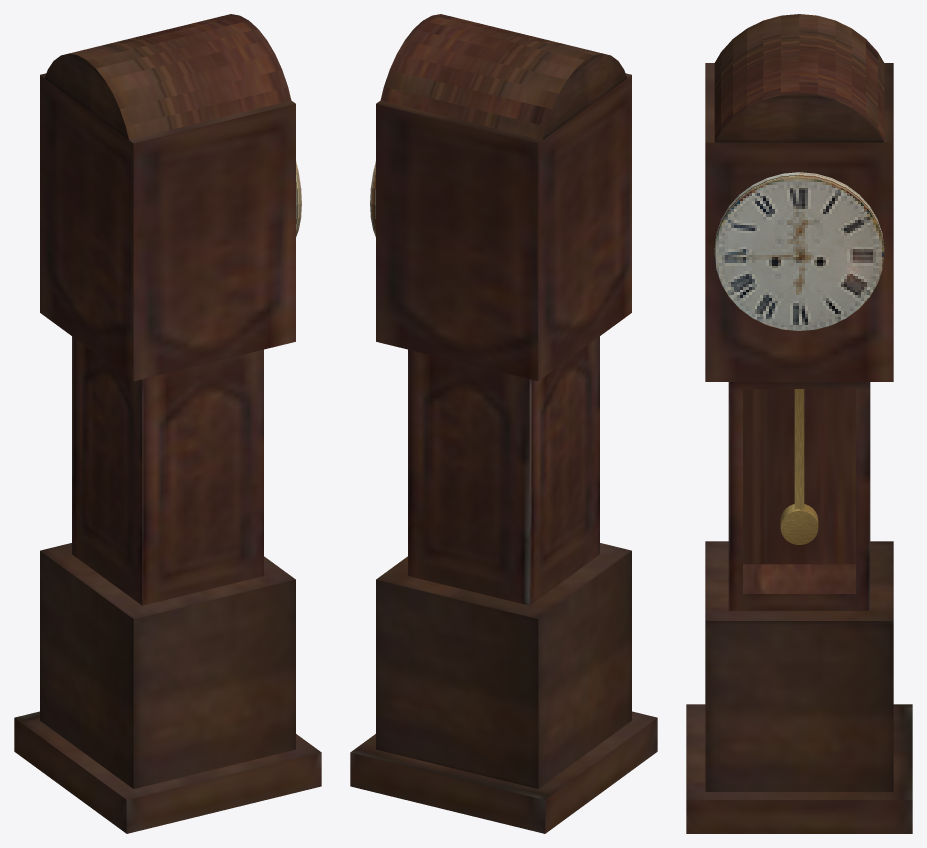
The model's file is clock.glb.
3 views of the same model, side by side, from view 1: azimuth 30°, elevation 25°; view 2: azimuth 150°, elevation 25°; view 3: azimuth 270°, elevation 25° (orthographic).
Parts seen in each view (by area): view 1: Cube.003, Cube.002, Cube.001, Cylinder, Cube; view 2: Cube.003, Cube.002, Cube.001, Cylinder, Cube; view 3: Cube.002, Cube.001, Cube.003, Cylinder.001, Cylinder, Cube, Cube.004, Cylinder.002.
Part boxes in pixels (left/top/right/bottom): Cube.003: left=40, top=73, right=295, bottom=381; Cube.002: left=40, top=543, right=295, bottom=788; Cube.001: left=72, top=336, right=263, bottom=605; Cylinder: left=45, top=14, right=291, bottom=139; Cube: left=14, top=711, right=321, bottom=833; Cube.003: left=376, top=73, right=631, bottom=381; Cube.002: left=376, top=543, right=631, bottom=788; Cube.001: left=408, top=336, right=599, bottom=605; Cylinder: left=380, top=14, right=626, bottom=139; Cube: left=350, top=711, right=657, bottom=833; Cube.002: left=705, top=541, right=893, bottom=791; Cube.001: left=728, top=382, right=870, bottom=610; Cube.003: left=705, top=63, right=893, bottom=381; Cylinder.001: left=714, top=172, right=884, bottom=330; Cylinder: left=714, top=14, right=884, bottom=142; Cube: left=686, top=704, right=912, bottom=833; Cube.004: left=794, top=389, right=804, bottom=509; Cylinder.002: left=780, top=504, right=818, bottom=544.
Size of the model in its own units: 1.2 by 4.29 by 1.2.
8 materials, 8 textured.
